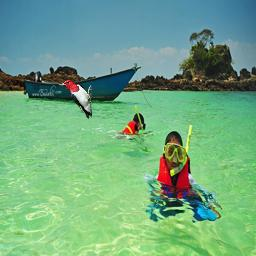Woodpecker: (57, 80, 93, 119)
